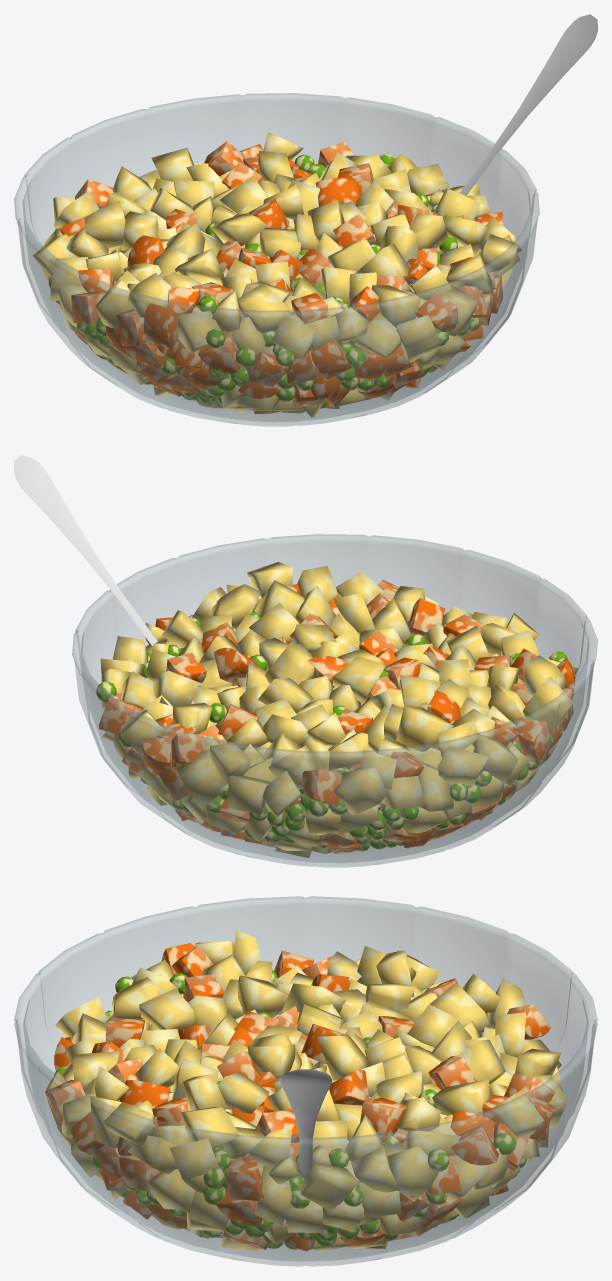
3 views of the same model, one above another, from view 1: azimuth 30°, elevation 25°; view 2: azimuth 150°, elevation 25°; view 3: azimuth 270°, elevation 25° (orthographic). The views are drawn at different scales.
Parts seen in each view (by area): view 1: Potatoe_Part_1.202, Salad_Bowl, Salad_Spoon; view 2: Potatoe_Part_1.202, Salad_Bowl, Salad_Spoon; view 3: Potatoe_Part_1.202, Salad_Bowl, Salad_Spoon.
Part boxes in pixels (x1=…): Potatoe_Part_1.202: x1=33, y1=132, x2=521, y2=417; Salad_Bowl: x1=14, y1=93, x2=539, y2=426; Salad_Spoon: x1=459, y1=14, x2=597, y2=195; Potatoe_Part_1.202: x1=96, y1=562, x2=577, y2=857; Salad_Bowl: x1=72, y1=534, x2=597, y2=867; Salad_Spoon: x1=14, y1=455, x2=157, y2=646; Potatoe_Part_1.202: x1=45, y1=930, x2=567, y2=1251; Salad_Bowl: x1=14, y1=896, x2=597, y2=1266; Salad_Spoon: x1=279, y1=1069, x2=332, y2=1178.
Size of the model in its own units: 243 by 118 by 203.
Materials: 3 (1 with a texture image).
